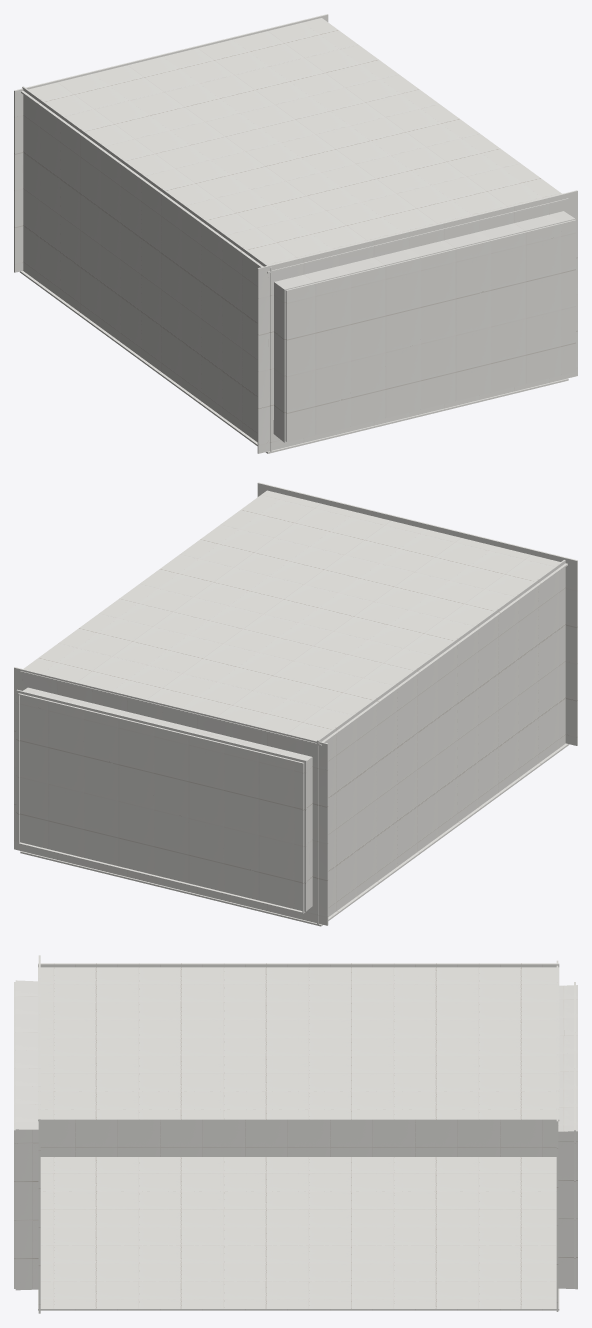
The picture shows the model from 3 angles, top to bottom: view 1: azimuth 30°, elevation 25°; view 2: azimuth 150°, elevation 25°; view 3: azimuth 270°, elevation 25°; orthographic projection. The views are drawn at different scales.
Parts seen in each view (by area): view 1: Plane_3; view 2: Plane_3; view 3: Plane_3.
Boxes of the visible parts, left/top/right/bottom form: Plane_3: left=14, top=14, right=577, bottom=453; Plane_3: left=14, top=482, right=577, bottom=926; Plane_3: left=14, top=955, right=577, bottom=1313.
Size of the model in its own units: 3647 by 2040 by 5308.
Materials: 1 (1 with a texture image).
